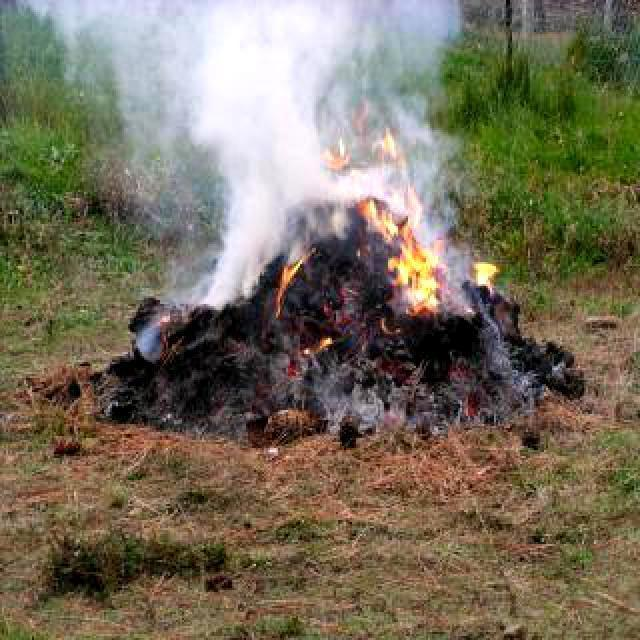Fire: (322, 132, 442, 314), (467, 245, 511, 311)
Smoke: (81, 0, 373, 291)
